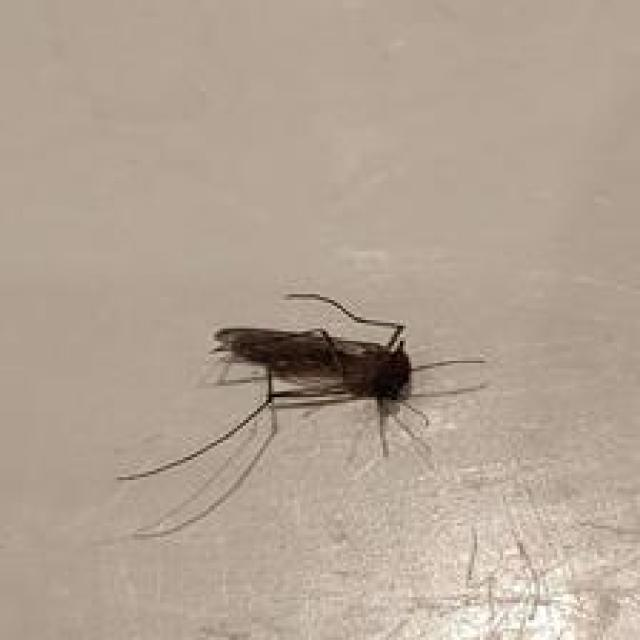Culex: (114, 290, 489, 541)
